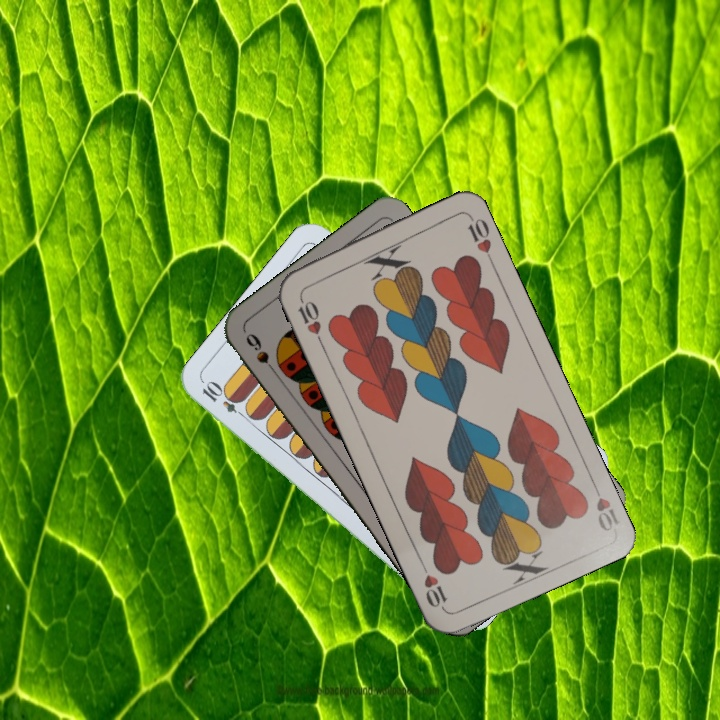E10: (198, 378, 251, 422)
H10: (587, 477, 622, 534), (293, 291, 326, 347)
S9: (241, 329, 282, 381)
